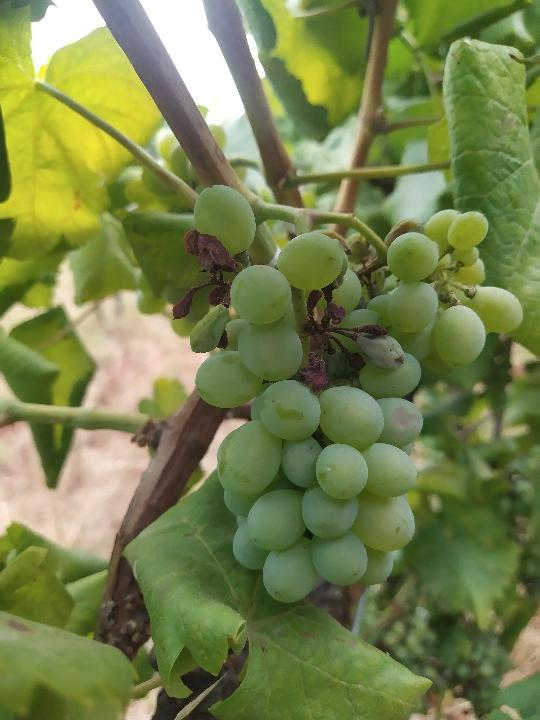grape: (169, 182, 526, 606)
